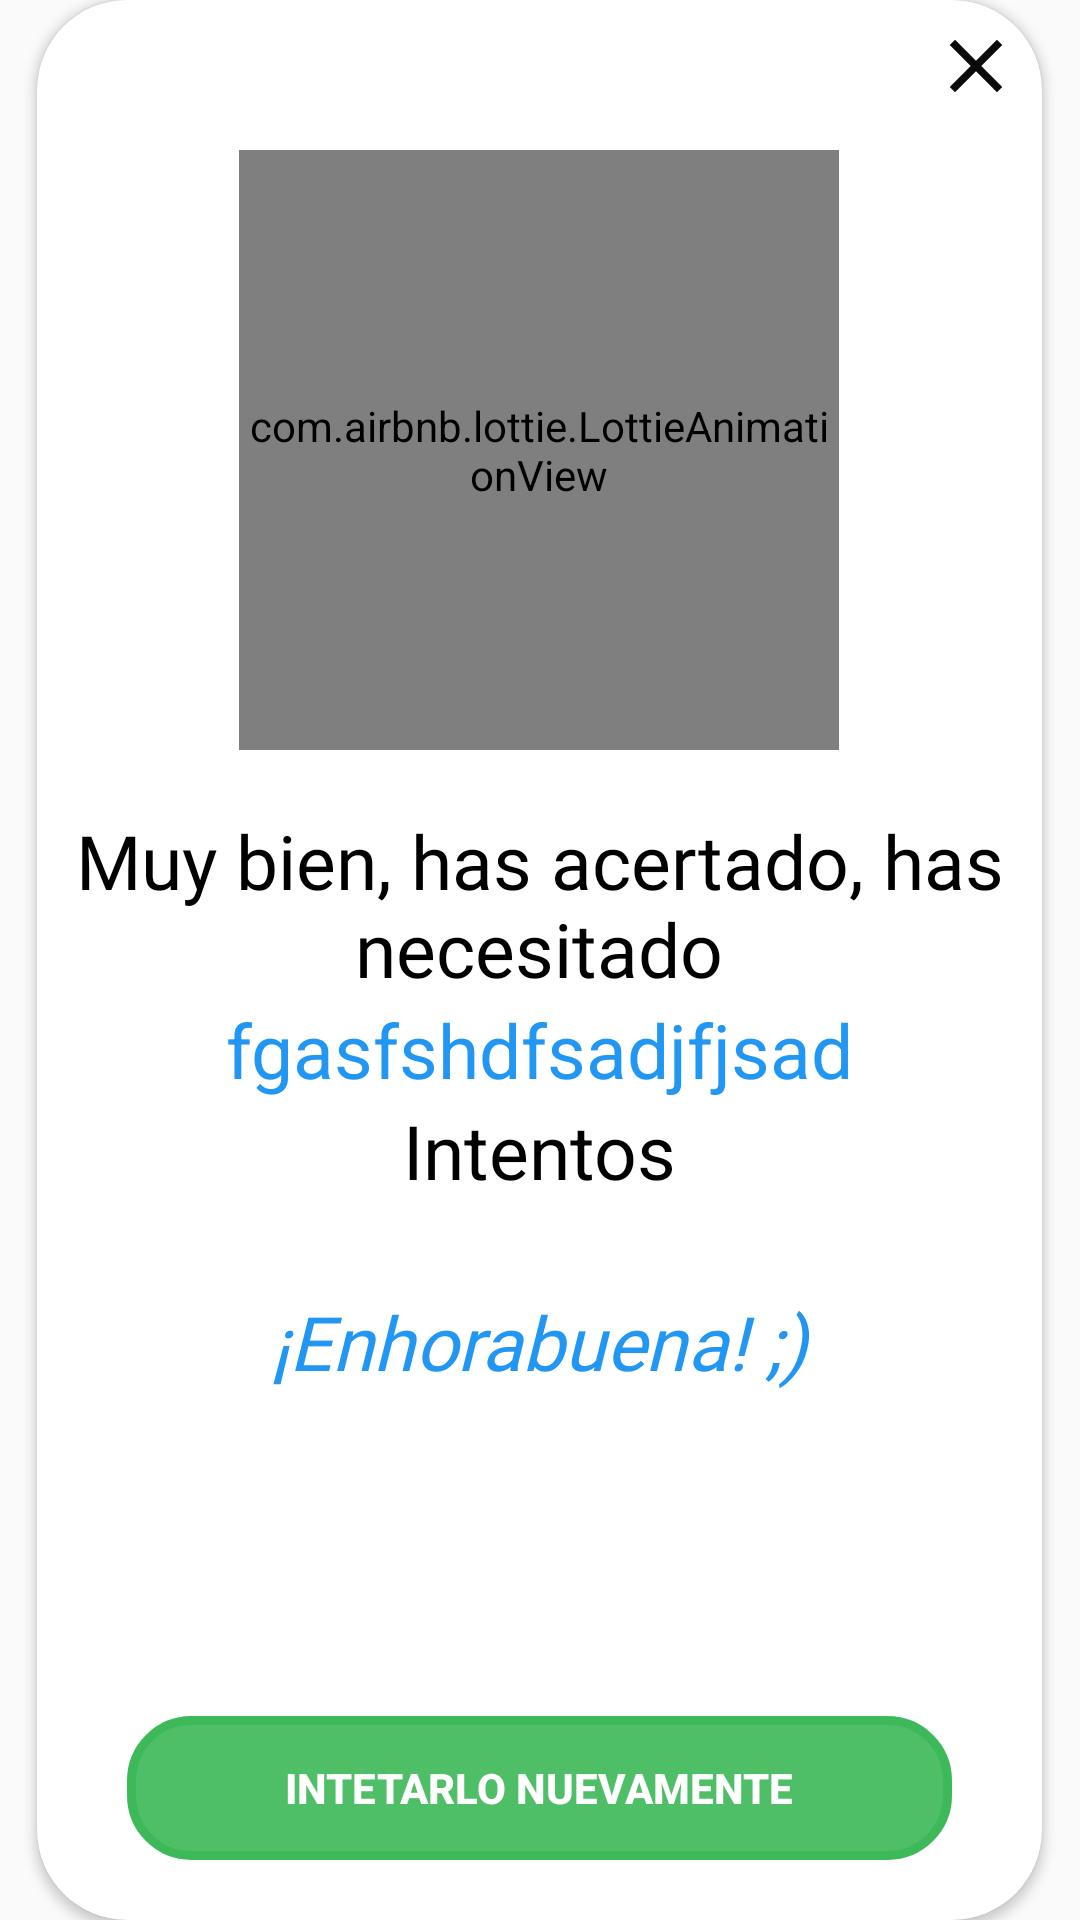

Where icons sit on this 1080px×1920px app screen, as (x1, y1, x2, y2):
close: (950, 40, 1002, 92)
